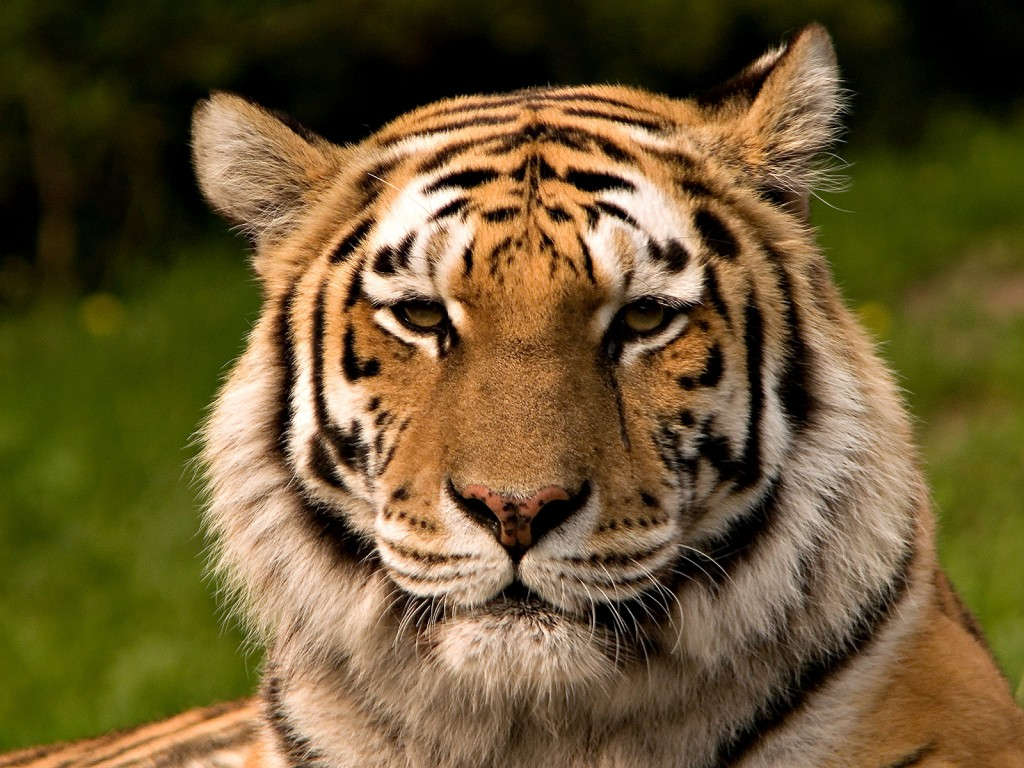Tigrew: (159, 30, 948, 702)
